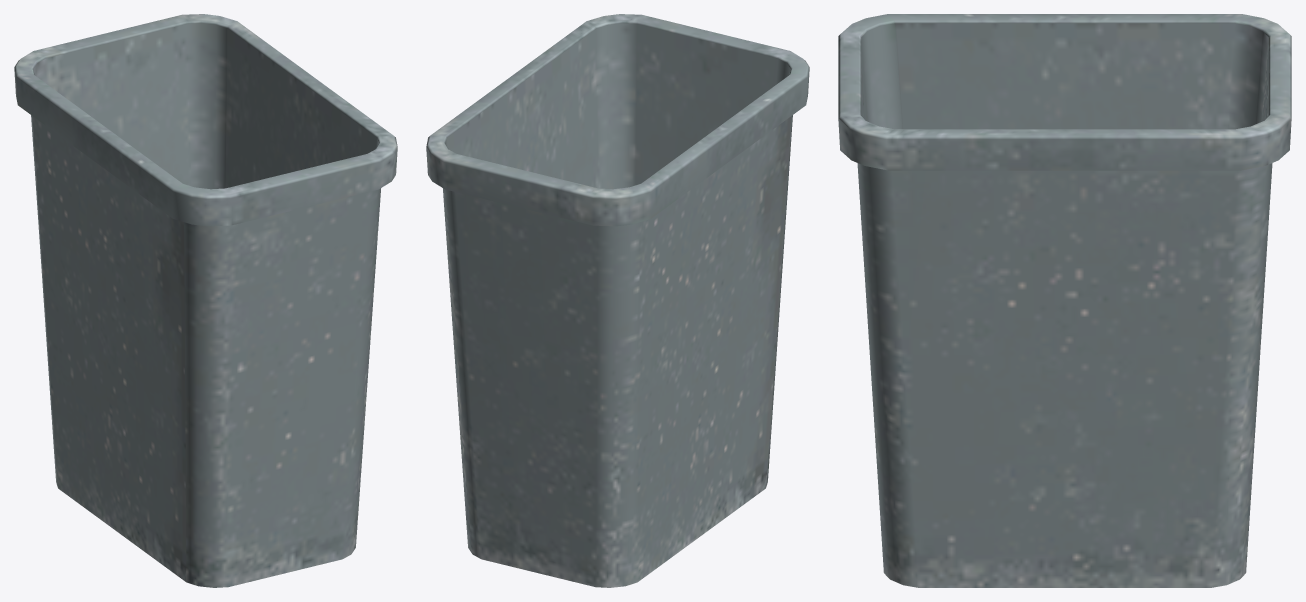
The model's file is 104_DustBox.fbx.
3 views of the same model, side by side, from view 1: azimuth 30°, elevation 25°; view 2: azimuth 150°, elevation 25°; view 3: azimuth 270°, elevation 25° (orthographic). The views are drawn at different scales.
Parts seen in each view (by area): view 1: LOD_1_Group_0_Sub_1__sm30_104_Dustbox01B_B_Mat; view 2: LOD_1_Group_0_Sub_1__sm30_104_Dustbox01B_B_Mat; view 3: LOD_1_Group_0_Sub_1__sm30_104_Dustbox01B_B_Mat.
Part boxes in pixels (x1,y1,x2,y2): LOD_1_Group_0_Sub_1__sm30_104_Dustbox01B_B_Mat: (14,14,397,587); LOD_1_Group_0_Sub_1__sm30_104_Dustbox01B_B_Mat: (426,14,809,587); LOD_1_Group_0_Sub_1__sm30_104_Dustbox01B_B_Mat: (838,14,1291,587).
Size of the model in its own units: 0.3439 by 0.6043 by 0.5318.
